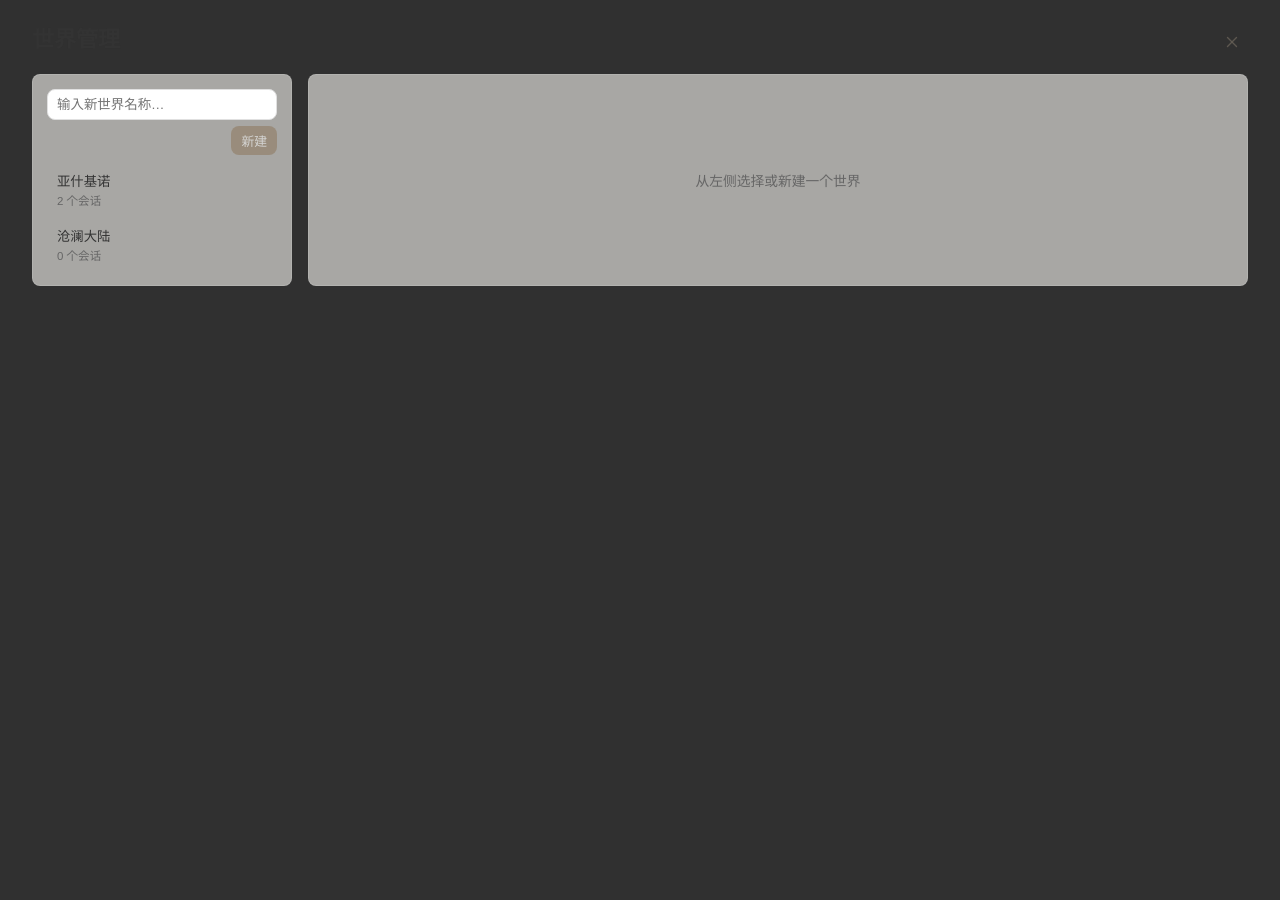
Scenario: WorldManagerSection › 已挂会话显示名：服务端 name 为空（群聊常见）时优先走 chatSessionRows 本地解析，不落到空文案
Click the button with class "wm-list-item" showing "亚什基诺 2 个会话": (162, 190) 47,163 -> 277,216
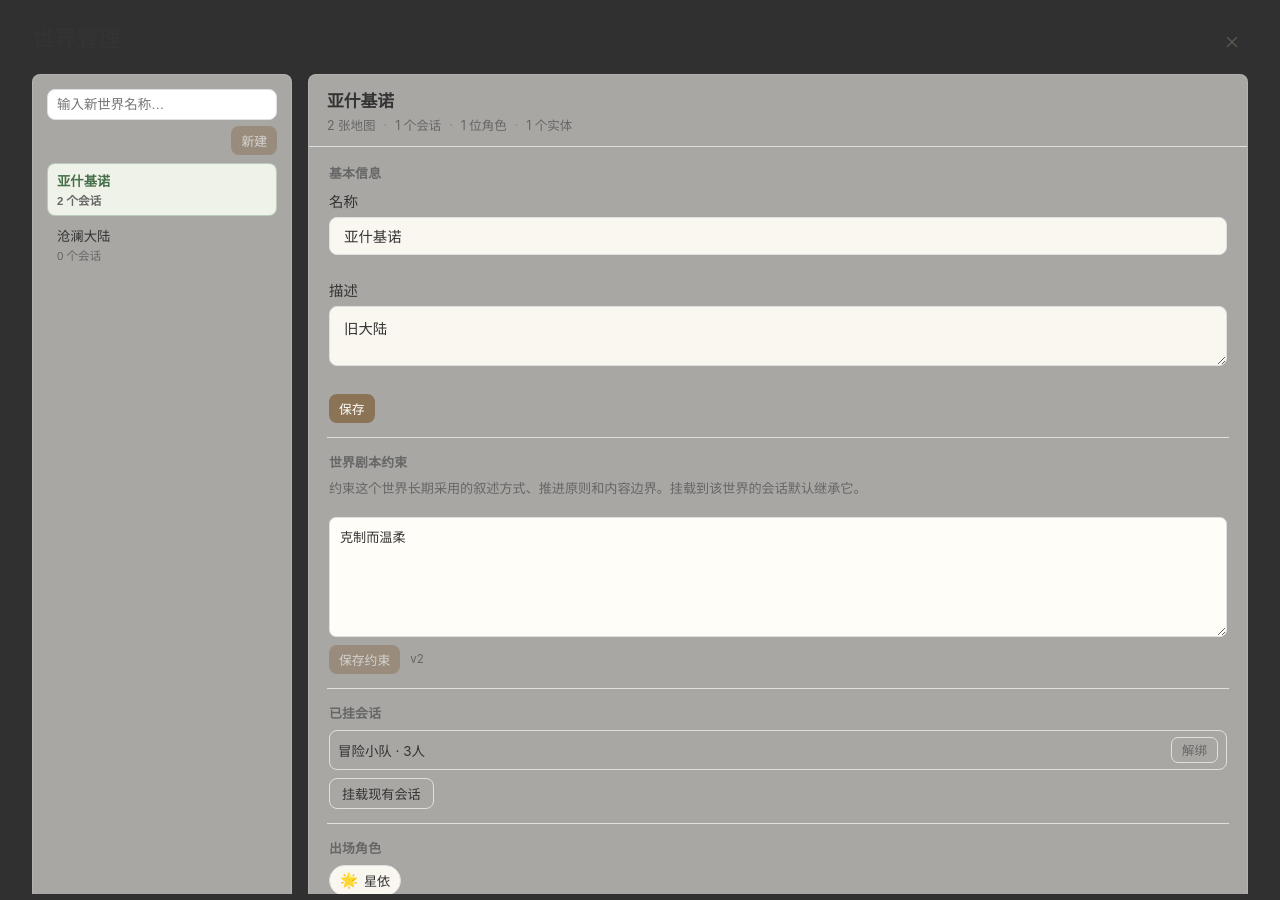
Check: the list item with class "wm-session-row" shows "冒险小队 · 3人", box 338,743 -> 425,759
